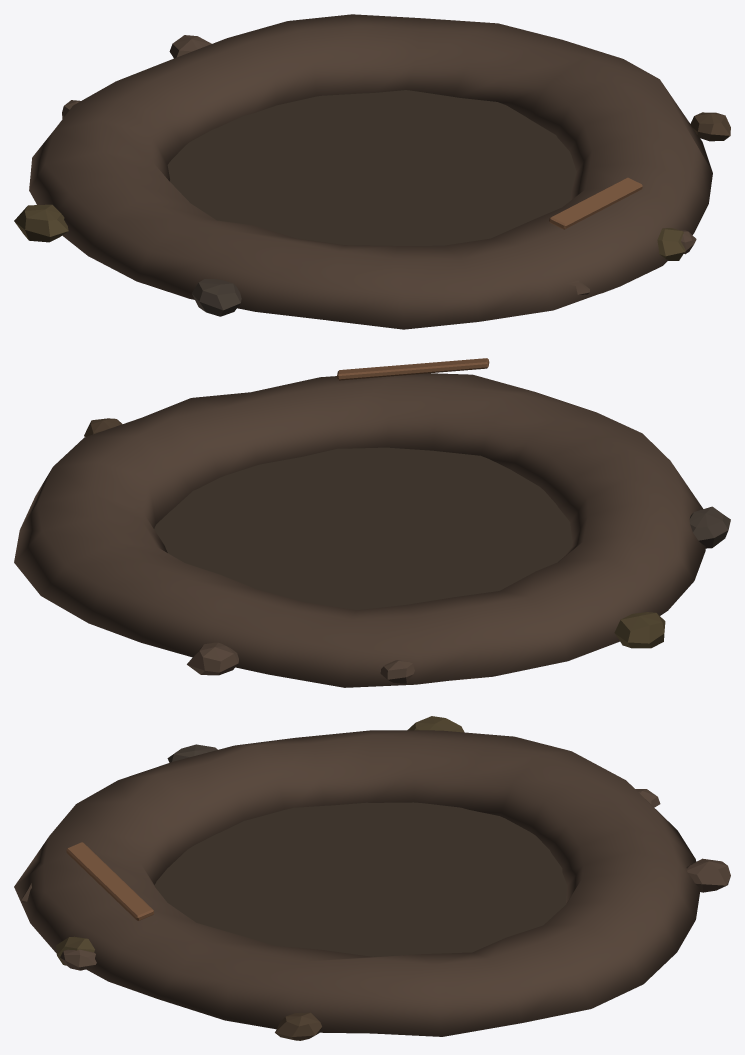
File: crater.glb
3 views of the same model, one above another, from view 1: azimuth 30°, elevation 25°; view 2: azimuth 150°, elevation 25°; view 3: azimuth 270°, elevation 25° (orthographic).
Parts seen in each view (by area): view 1: crater; view 2: crater; view 3: crater.
Boxes of the visible parts, x1,y1,x2,y2 form: crater: (14,14,730,329); crater: (14,358,730,687); crater: (14,716,730,1040).
Size of the model in its own units: 4.39 by 0.4843 by 4.3.
